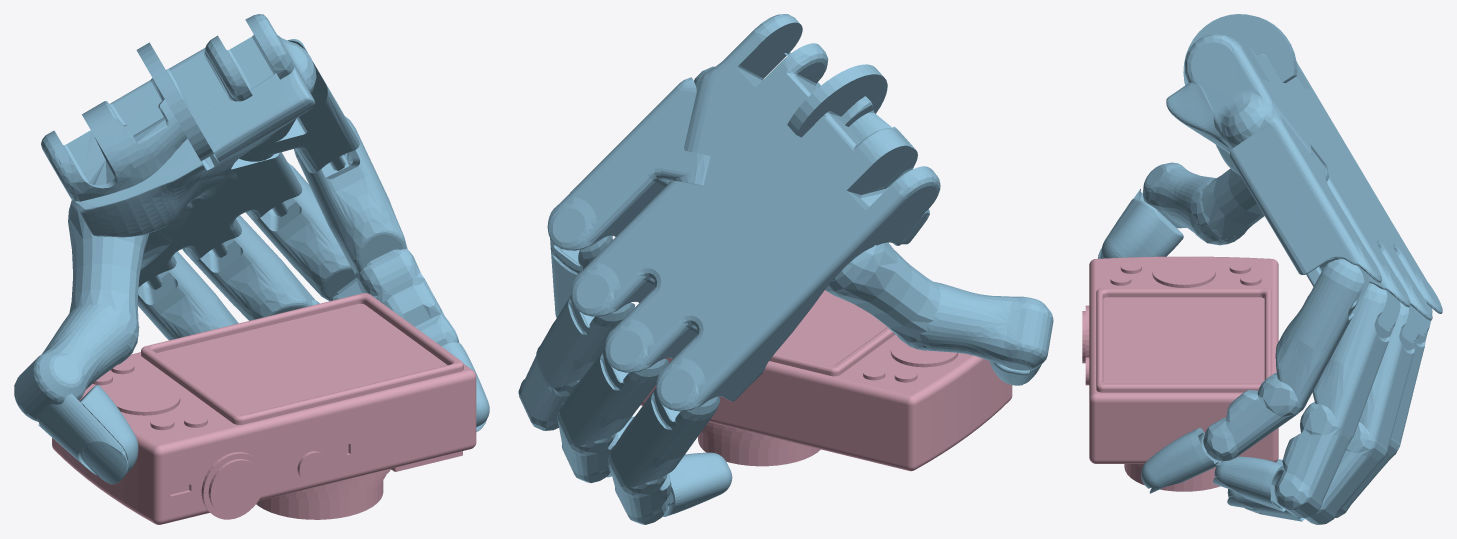
3 renders of one model, left to right at view 1: azimuth 30°, elevation 25°; view 2: azimuth 150°, elevation 25°; view 3: azimuth 270°, elevation 25°, orthographic. The views are drawn at different scales.
Visible parts, largest first — view 1: world; view 2: world; view 3: world.
Boxes of the visible parts, bbox=[...] form: world: bbox=[14, 14, 489, 524]; world: bbox=[518, 14, 1053, 524]; world: bbox=[1082, 14, 1442, 524].
Size of the model in its own units: 0.1706 by 0.1689 by 0.1231.
